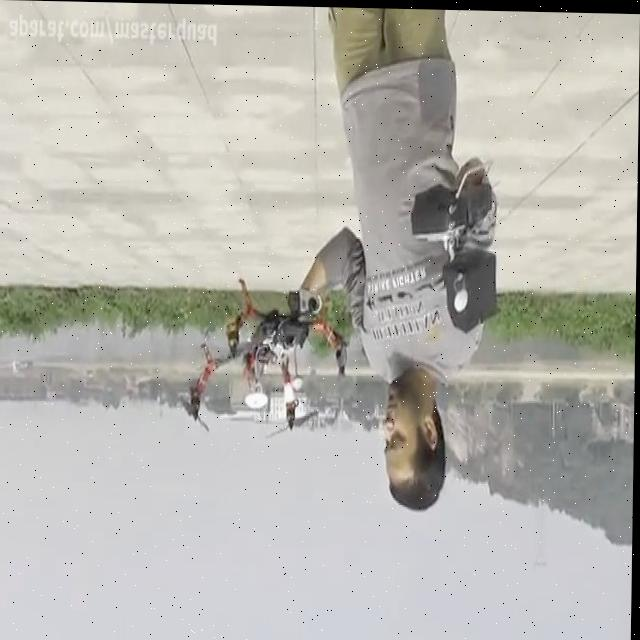drone: (176, 274, 351, 447)
